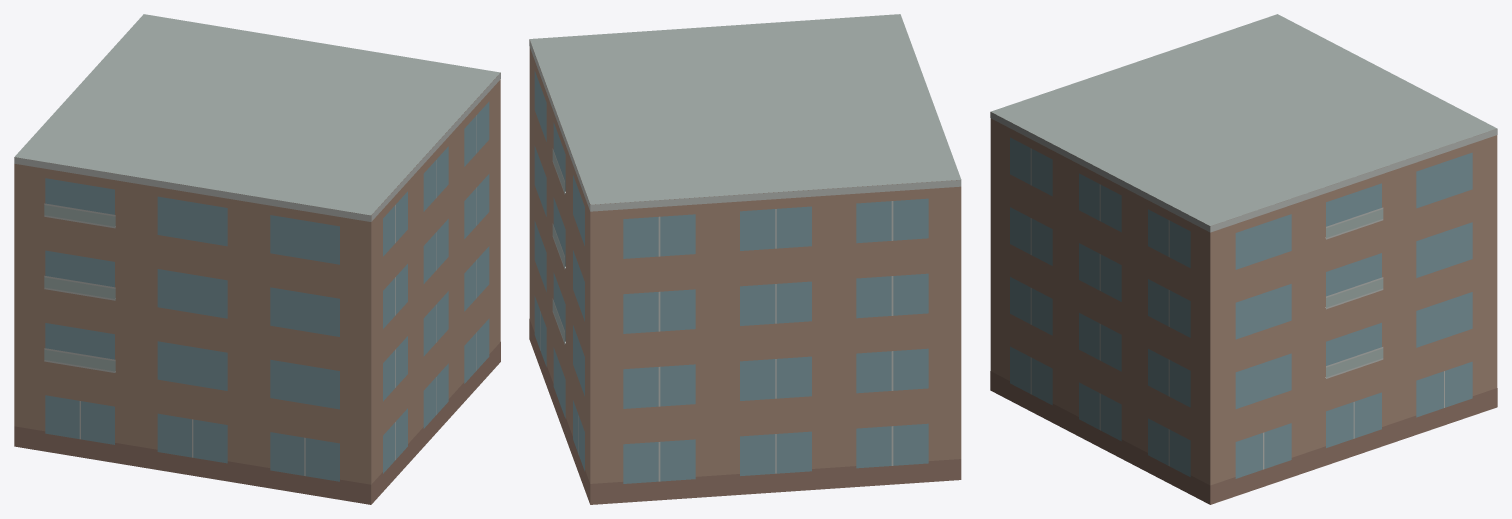
Rendered from survey-upis-32911979.glb.
The picture shows the model from 3 angles, left to right: view 1: azimuth 30°, elevation 25°; view 2: azimuth 150°, elevation 25°; view 3: azimuth 270°, elevation 25°; orthographic projection. The views are drawn at different scales.
Visible parts, largest first — view 1: survey-upis-32911979.tmp; view 2: survey-upis-32911979.tmp; view 3: survey-upis-32911979.tmp.
Boxes of the visible parts, x1,y1,x2,y2 form: survey-upis-32911979.tmp: [14, 14, 500, 504]; survey-upis-32911979.tmp: [529, 14, 961, 504]; survey-upis-32911979.tmp: [990, 14, 1497, 504].
Size of the model in its own units: 17.29 by 10.59 by 17.47.
